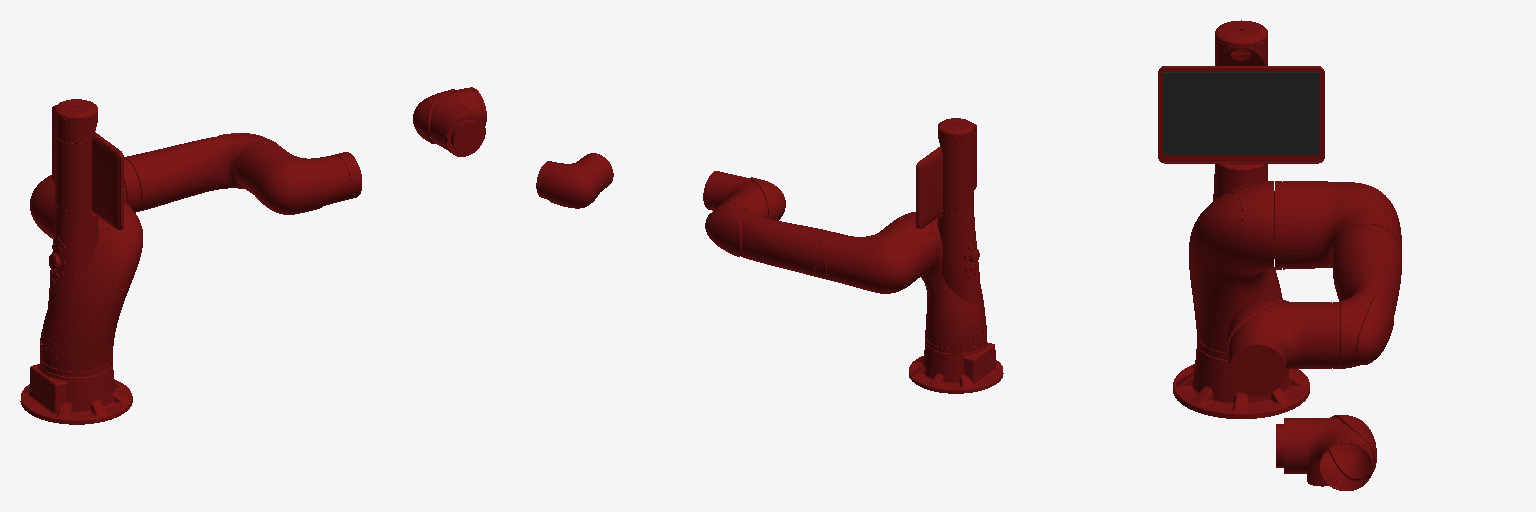
The robot description file, URDF, robot "sawyer":
<?xml version="1.0" ?>
<!-- =================================================================================== -->
<!-- |    This document was autogenerated by xacro from ./urdf.xacro                   | -->
<!-- |    EDITING THIS FILE BY HAND IS NOT RECOMMENDED                                 | -->
<!-- =================================================================================== -->
<robot name="sawyer" xmlns:xacro="http://www.ros.org/wiki/xacro">
  <material name="black">
    <color rgba="0 0 0 1"/>
  </material>

  <material name="black_trans">
    <color rgba="0 0 0 0.5"/>
  </material>
  <material name="darkgray">
    <color rgba=".2 .2 .2 1"/>
  </material>
  <material name="darkred">
    <color rgba=".5 .1 .1 1"/>
  </material>
  <material name="sawyer_red">
    <color rgba=".5 .1 .1 1"/>
  </material>
  <material name="sawyer_gray">
    <color rgba="0.75294 0.75294 0.75294 1"/>
  </material>
  <link name="base"/>
  <!-- <link name="torso">
    <visual>
      <origin rpy="0 0 0" xyz="0 0 0"/>
      <geometry>
        <box size="0 0 0"/>
      </geometry>
      <material name="darkgray">
        <color rgba=".2 .2 .2 1"/>
      </material>
    </visual>
    <inertial>
      <origin rpy="0 0 0" xyz="0.000000 0.000000 0.000000"/>
      <mass value="0.0001"/>
      <inertia ixx="1e-08" ixy="0" ixz="0" iyy="1e-08" iyz="0" izz="1e-08"/>
    </inertial>
  </link>
  <link name="pedestal">
    <visual>
      <origin rpy="1.57079632679 0 -1.57079632679" xyz="0.26 0.345 -0.91488"/>
      <geometry>
        <mesh filename="package://sawyer_description_openrave/meshes/sawyer_pv/pedestal.DAE"/>
      </geometry>
      <material name="darkgray"/>
    </visual>
    <collision>
      <origin rpy="0 0 0" xyz="0 0 -0.30"/>
      <geometry>
        <cylinder length="0.62" radius="0.18"/>
      </geometry>
    </collision>
    <inertial>
      <origin rpy="0 0 0" xyz="0 0 0"/>
      <mass value="60.86397744"/>
      <inertia ixx="5.0635929" ixy="0.00103417" ixz="0.80199628" iyy="6.08689388" iyz="0.00105311" izz="4.96191932"/>
    </inertial>
  </link>
  <link name="controller_box">
    <collision>
      <origin rpy="0 0 0" xyz="-0.325 0 -0.38"/>
      <geometry>
        <box size="0.22 0.4 0.53"/>
      </geometry>
    </collision>
  </link>
  <joint name="controller_box_fixed" type="fixed">
    <origin rpy="0 0 0" xyz="0.0 0.0 0.0"/>
    <parent link="base"/>
    <child link="controller_box"/>
  </joint>
  <link name="pedestal_feet">
    <collision>
      <origin rpy="0 0 0" xyz="-0.1225 0 -0.758"/>
      <geometry>
        <box size="0.77 0.7 0.31"/>
      </geometry>
    </collision>
  </link>
  <joint name="pedestal_feet_fixed" type="fixed">
    <origin rpy="0 0 0" xyz="0.0 0.0 0.0"/>
    <parent link="base"/>
    <child link="pedestal_feet"/>
  </joint>
  <joint name="torso_t0" type="fixed">
    <origin rpy="0 0 0" xyz="0 0 0"/>
    <parent link="base"/>
    <child link="torso"/>
  </joint>
  <joint name="pedestal_fixed" type="fixed">
    <origin rpy="0 0 0" xyz="0.0 0.0 0.0"/>
    <parent link="base"/>
    <child link="pedestal"/>
  </joint> -->
  <joint name="right_arm_mount" type="fixed">
    <origin rpy="0 0 0" xyz="0.0 0.0 0.0"/>
    <parent link="base"/>
    <child link="right_arm_base_link"/>
  </joint>
  <link name="right_arm_base_link">
    <inertial>
      <origin rpy="0 0 0" xyz="-0.0006241 -2.8025E-05 0.065404"/>
      <mass value="2.0687"/>
      <inertia ixx="0.0067599" ixy="-4.2024E-05" ixz="-6.1904E-07" iyy="0.0067877" iyz="1.5888E-05" izz="0.0074031"/>
    </inertial>
    <!-- <visual>
      <origin rpy="0 0 0" xyz="0 0 0.12"/>
      <geometry>
        <cylinder length="0.24" radius="0.11"/>
      </geometry>
      <material name="Cyan">
        <color rgba="0.0 1.0 1.0 0.5"/>
      </material>
    </visual> -->
    <visual>
      <origin rpy="0 0 0" xyz="0 0 0"/>
      <geometry>
        <mesh filename="package://sawyer_description_openrave/meshes/sawyer_pv/base.DAE"/>
      </geometry>
      <material name="sawyer_red"/>
    </visual>
    <collision>
      <origin rpy="0 0 0" xyz="0 0 0.12"/>
      <geometry>
        <cylinder length="0.24" radius="0.11"/>
      </geometry>
    </collision>
  </link>
  <link name="right_l0">
    <inertial>
      <origin rpy="0 0 0" xyz="0.024366 0.010969 0.14363"/>
      <mass value="5.3213"/>
      <inertia ixx="0.053314" ixy="0.0047093" ixz="0.011734" iyy="0.057902" iyz="0.0080179" izz="0.023659"/>
    </inertial>
    <visual>
      <origin rpy="0 0 0" xyz="0 0 0"/>
      <geometry>
        <mesh filename="package://sawyer_description_openrave/meshes/sawyer_mp3/l0.DAE"/>
      </geometry>
      <material name="sawyer_red"/>
    </visual>
    <collision>
      <origin rpy="0 0 0" xyz="0.081 0 0.237"/>
      <geometry>
        <sphere radius="0.07"/>
      </geometry>
    </collision>
  </link>
  <joint name="right_j0" type="revolute">
    <origin rpy="0 0 0" xyz="0 0 0.08"/>
    <parent link="right_arm_base_link"/>
    <child link="right_l0"/>
    <axis xyz="0 0 1"/>
    <limit effort="80.0" lower="-3.0503" upper="3.0503" velocity="1.74"/>
  </joint>
  <link name="head">
    <inertial>
      <origin rpy="0 0 0" xyz="0.0053207 -2.6549E-05 0.1021"/>
      <mass value="1.5795"/>
      <inertia ixx="0.011833" ixy="-4.4669E-06" ixz="4.9425E-05" iyy="0.0082709" iyz="4.2124E-07" izz="0.0049661"/>
    </inertial>
    <!-- <visual>
      <origin rpy="0 0 0" xyz="0 0 0.12"/>
      <geometry>
        <cylinder length="0.28" radius="0.065"/>
      </geometry>
      <material name="Cyan">
        <color rgba="0.0 1.0 1.0 0.5"/>
      </material>
    </visual> -->
    <visual>
      <origin rpy="0 0 0" xyz="0 0 0"/>
      <geometry>
        <mesh filename="package://sawyer_description_openrave/meshes/sawyer_pv/head.DAE"/>
      </geometry>
      <material name="sawyer_red"/>
    </visual>

    <!-- 
    <collision>
      <origin rpy="0 0 0" xyz="0 0 0.08"/>
      <geometry>
        <sphere radius="0.18"/>
      </geometry>
    </collision> -->
    <collision>
      <origin rpy="0 0 0" xyz="0 0 0.12"/>
      <geometry>
        <cylinder length="0.28" radius="0.065"/>
      </geometry>
    </collision>
  </link>
  <joint name="head_pan" type="revolute">
    <origin rpy="0 0 0" xyz="0 0 0.2965"/>
    <parent link="right_l0"/>
    <child link="head"/>
    <axis xyz="0 0 1"/>
    <limit effort="8" lower="-5.1477" upper="0.9559" velocity="1.8"/>
  </joint>
  <link name="right_torso_itb">
    <inertial>
      <origin rpy="0 0 0" xyz="0.000000 0.000000 0.000000"/>
      <mass value="0.0001"/>
      <inertia ixx="1e-08" ixy="0" ixz="0" iyy="1e-08" iyz="0" izz="1e-08"/>
    </inertial>
  </link>
  <joint name="right_torso_itb" type="fixed">
    <origin rpy="0 -1.5708 0" xyz="-.055 0 .22"/>
    <parent link="right_l0"/>
    <child link="right_torso_itb"/>
    <axis xyz="0 0 1"/>
  </joint>
  <link name="right_l1">
    <inertial>
      <origin rpy="0 0 0" xyz="-0.0030849 -0.026811 0.092521"/>
      <mass value="4.505"/>
      <inertia ixx="0.022398" ixy="-0.00023986" ixz="-0.00029362" iyy="0.014613" iyz="-0.0060875" izz="0.017295"/>
    </inertial>
    <visual>
      <origin rpy="0 0 0" xyz="0 0 0"/>
      <geometry>
        <mesh filename="package://sawyer_description_openrave/meshes/sawyer_mp3/l1.DAE"/>
      </geometry>
      <material name="sawyer_red"/>
    </visual>
    <collision>
      <origin rpy="0 0 0" xyz="0 0 0.1225"/>
      <geometry>
        <sphere radius="0.07"/>
      </geometry>
    </collision>
  </link>
  <joint name="right_j1" type="revolute">
    <origin rpy="-1.5708 1.5708 0" xyz="0.081 0.05 0.237"/>
    <parent link="right_l0"/>
    <child link="right_l1"/>
    <axis xyz="0 0 1"/>
    <limit effort="80.0" lower="-3.8183" upper="2.2824" velocity="1.328"/>
  </joint>
  <link name="right_l2">
    <inertial>
      <origin rpy="0 0 0" xyz="-0.00016232 -0.015346 0.13445"/>
      <mass value="1.7251"/>
      <inertia ixx="0.025176" ixy="4.3031E-06" ixz="1.4564E-05" iyy="0.024982" iyz="-0.0033928" izz="0.0033798"/>
    </inertial>
    <visual>
      <origin rpy="0 0 0" xyz="0 0 0"/>
      <geometry>
        <mesh filename="package://sawyer_description_openrave/meshes/sawyer_pv/l2.DAE"/>
      </geometry>
      <material name="sawyer_red"/>
    </visual>
    <collision>
      <origin rpy="0 0 0" xyz="0 0 0.08"/>
      <geometry>
        <cylinder length="0.34" radius="0.06"/>
      </geometry>
    </collision>
  </link>
  <joint name="right_j2" type="revolute">
    <origin rpy="1.5708 0 0" xyz="0 -0.14 0.1425"/>
    <parent link="right_l1"/>
    <child link="right_l2"/>
    <axis xyz="0 0 1"/>
    <limit effort="40.0" lower="-3.0514" upper="3.0514" velocity="1.957"/>
  </joint>
  <link name="right_l3">
    <inertial>
      <origin rpy="0 0 0" xyz="-0.0046678 -0.028394 -0.083127"/>
      <mass value="2.4743"/>
      <inertia ixx="0.0099549" ixy="-1.7675E-05" ixz="0.00027521" iyy="0.0064248" iyz="0.0030853" izz="0.0067746"/>
    </inertial>
    <!-- <visual>
      <origin rpy="0 0 0" xyz="0 -0.01 -0.12"/>
      <geometry>
        <sphere radius="0.06"/>
      </geometry>
      <material name="Cyan">
        <color rgba="0.0 1.0 1.0 0.5"/>
      </material>
    </visual> -->
    <visual>
      <origin rpy="0 0 0" xyz="0 0 0"/>
      <geometry>
        <mesh filename="package://sawyer_description_openrave/meshes/sawyer_pv/l3.DAE"/>
      </geometry>
      <material name="sawyer_red"/>
    </visual>
    <collision>
      <origin rpy="0 0 0" xyz="0 -0.01 -0.12"/>
      <geometry>
        <sphere radius="0.06"/>
      </geometry>
    </collision>
  </link>
  <joint name="right_j3" type="revolute">
    <origin rpy="-1.5708 0 0" xyz="0 -0.042 0.26"/>
    <parent link="right_l2"/>
    <child link="right_l3"/>
    <axis xyz="0 0 1"/>
    <limit effort="40.0" lower="-3.0514" upper="3.0514" velocity="1.957"/>
  </joint>
  <link name="right_l4">
    <inertial>
      <origin rpy="0 0 0" xyz="-0.0027794 0.0076558 0.13273"/>
      <mass value="1.0433"/>
      <inertia ixx="0.012913" ixy="2.573E-05" ixz="0.00017705" iyy="0.012939" iyz="0.0011152" izz="0.0012405"/>
    </inertial>
    <!-- <visual>
      <origin rpy="0 0 0" xyz="0 0 0.11"/>
      <geometry>
        <cylinder length="0.30" radius="0.045"/>
      </geometry>
      <material name="Cyan">
        <color rgba="0.0 1.0 1.0 0.5"/>
      </material>
    </visual> -->
    <visual>
      <origin rpy="0 0 0" xyz="0 0 0"/>
      <geometry>
        <mesh filename="package://sawyer_description_openrave/meshes/sawyer_pv/l4.DAE"/>
      </geometry>
      <material name="sawyer_red"/>
    </visual>
    <collision>
      <origin rpy="0 0 0" xyz="0 0 0.11"/>
      <geometry>
        <cylinder length="0.30" radius="0.045"/>
      </geometry>
    </collision>
  </link>
  <joint name="right_j4" type="revolute">
    <origin rpy="1.5708 0 0" xyz="0 -0.125 -0.1265"/>
    <parent link="right_l3"/>
    <child link="right_l4"/>
    <axis xyz="0 0 1"/>
    <limit effort="9.0" lower="-2.9842" upper="2.9842" velocity="3.485"/>
  </joint>
  <link name="right_arm_itb">
    <inertial>
      <origin rpy="0 0 0" xyz="0.000000 0.000000 0.000000"/>
      <mass value="0.0001"/>
      <inertia ixx="1e-08" ixy="0" ixz="0" iyy="1e-08" iyz="0" izz="1e-08"/>
    </inertial>
  </link>
  <joint name="right_arm_itb" type="fixed">
    <origin rpy="0 -1.5708 0" xyz="-.055 0 .075"/>
    <parent link="right_l4"/>
    <child link="right_arm_itb"/>
    <axis xyz="0 0 1"/>
  </joint>
  <link name="right_l5">
    <inertial>
      <origin rpy="0 0 0" xyz="0.0062067 -0.024291 0.075564"/>
      <mass value="1.5343"/>
      <inertia ixx="0.0046072" ixy="0.00012002" ixz="5.3065E-05" iyy="0.0028725" iyz="-0.0011886" izz="0.003101"/>
    </inertial>
    <visual>
      <origin rpy="0 0 0" xyz="0 0 0"/>
      <geometry>
        <mesh filename="package://sawyer_description_openrave/meshes/sawyer_pv/l5.DAE"/>
      </geometry>
      <material name="sawyer_red"/>
    </visual>
    <collision>
      <origin rpy="0 0 0" xyz="0 0 0.1"/>
      <geometry>
        <sphere radius="0.06"/>
      </geometry>
    </collision>
  </link>
  <joint name="right_j5" type="revolute">
    <origin rpy="-1.5708 0 0" xyz="0 0.031 0.275"/>
    <parent link="right_l4"/>
    <child link="right_l5"/>
    <axis xyz="0 0 1"/>
    <limit effort="9.0" lower="-2.9842" upper="2.9842" velocity="3.485"/>
  </joint>
  <link name="right_hand_camera"/>
  <joint name="right_hand_camera" type="fixed">
    <origin rpy="0 1.5708 0" xyz="0.039552 -0.033 0.0695"/>
    <parent link="right_l5"/>
    <child link="right_hand_camera"/>
    <axis xyz="0 0 0"/>
  </joint>
  <link name="right_wrist"/>
  <joint name="right_wrist" type="fixed">
    <origin rpy="1.5708 0 0" xyz="0 0 0.10541"/>
    <parent link="right_l5"/>
    <child link="right_wrist"/>
    <axis xyz="0 0 0"/>
  </joint>
  <link name="right_l6">
    <inertial>
      <origin rpy="0 0 0" xyz="-8.0726E-06 0.0085838 -0.0049566"/>
      <mass value="0.3292"/>
      <inertia ixx="0.00031105" ixy="1.4771E-06" ixz="-3.7074E-07" iyy="0.00021549" iyz="-8.4533E-06" izz="0.00035976"/>
    </inertial>
    <visual>
      <origin rpy="0 0 0" xyz="0 0 0"/>
      <geometry>
        <mesh filename="package://sawyer_description_openrave/meshes/sawyer_mp1/l6.DAE" scale="0 0 0"/>
      </geometry>
      <material name="sawyer_red"/>
    </visual>
    <collision>
      <origin rpy="0 0 0" xyz="0 0.015 -0.01"/>
      <geometry>
        <cylinder length="0.05" radius="0.055"/>
      </geometry>
    </collision>
  </link>
  <joint name="right_j6" type="revolute">
    <origin rpy="-1.5708 -0.17453 3.1416" xyz="0 -0.11 0.1053"/>
    <parent link="right_l5"/>
    <child link="right_l6"/>
    <axis xyz="0 0 1"/>
    <limit effort="9.0" lower="-4.7104" upper="4.7104" velocity="4.545"/>
  </joint>
  <link name="right_hand">
    <collision>
      <origin rpy="0 0 0" xyz="0 0 0.02"/>
      <geometry>
        <cylinder length="0.0" radius="0.035"/>
      </geometry>
    </collision>
    <inertial>
      <origin rpy="0 0 0" xyz="1.0E-08 1.0E-08 1.0E-08"/>
      <mass value="1.0E-08"/>
      <inertia ixx="1.0E-08" ixy="1.0E-08" ixz="1.0E-08" iyy="1.0E-08" iyz="1.0E-08" izz="1.0E-08"/>
    </inertial>
  </link>
  <joint name="right_hand" type="fixed">
    <origin rpy="0 0 1.5708" xyz="0 0 0.0245"/>
    <axis xyz="0 0 1"/>
    <parent link="right_l6"/>
    <child link="right_hand"/>
  </joint>
  <link name="right_l1_2">
    <inertial>
      <origin rpy="0 0 0" xyz="1.0E-08 1.0E-08 1.0E-08"/>
      <mass value="1.0E-08"/>
      <inertia ixx="1.0E-08" ixy="1.0E-08" ixz="1.0E-08" iyy="1.0E-08" iyz="1.0E-08" izz="1.0E-08"/>
    </inertial>
    <collision>
      <origin rpy="0 0 0" xyz="0 0 0.035"/>
      <geometry>
        <cylinder length="0.14" radius="0.07"/>
      </geometry>
    </collision>
  </link>
  <joint name="right_j1_2" type="fixed">
    <origin rpy="0 0 0" xyz="0 0 0"/>
    <parent link="right_l1"/>
    <child link="right_l1_2"/>
    <axis xyz="0 0 1"/>
  </joint>
  <link name="right_l2_2">
    <inertial>
      <origin rpy="0 0 0" xyz="1.0E-08 1.0E-08 1.0E-08"/>
      <mass value="1.0E-08"/>
      <inertia ixx="1.0E-08" ixy="1.0E-08" ixz="1.0E-08" iyy="1.0E-08" iyz="1.0E-08" izz="1.0E-08"/>
    </inertial>
    <collision>
      <origin rpy="0 0 0" xyz="0 0 0.26"/>
      <geometry>
        <sphere radius="0.06"/>
      </geometry>
    </collision>
  </link>
  <joint name="right_j2_2" type="fixed">
    <origin rpy="0 0 0" xyz="0 0 0"/>
    <parent link="right_l2"/>
    <child link="right_l2_2"/>
    <axis xyz="0 0 1"/>
  </joint>
  <link name="right_l4_2">
    <inertial>
      <origin rpy="0 0 0" xyz="1.0E-08 1.0E-08 1.0E-08"/>
      <mass value="1.0E-08"/>
      <inertia ixx="1.0E-08" ixy="1.0E-08" ixz="1.0E-08" iyy="1.0E-08" iyz="1.0E-08" izz="1.0E-08"/>
    </inertial>
    <collision>
      <origin rpy="0 0 0" xyz="0 0.01 0.26"/>
      <geometry>
        <sphere radius="0.06"/>
      </geometry>
    </collision>
  </link>
  <joint name="right_j4_2" type="fixed">
    <origin rpy="0 0 0" xyz="0 0 0"/>
    <parent link="right_l4"/>
    <child link="right_l4_2"/>
    <axis xyz="0 0 1"/>
  </joint>  
  <link name="screen">
   <!--  <visual>
      <origin rpy="0 0 0" xyz="0 -0.005 -0.005"/>
      <geometry>
        <box size="0.32 0.22 0.1"/>
      </geometry>
      <material name="Cyan">
        <color rgba="0.0 1.0 1.0 0.5"/>
      </material>
    </visual> -->
    <visual>
      <origin rpy="0 0 0" xyz="0 0 0"/>
      <geometry>
        <box size="0.24 0.14 0.002"/>
      </geometry>
      <material name="darkgray"/>
    </visual>
    <collision>
      <origin rpy="0 0 0" xyz="0 -0.005 -0.005"/>
      <geometry>
        <box size="0.32 0.22 0.1"/>
      </geometry>
    </collision>
    <!-- <collision>
      <origin rpy="0 0 0" xyz="0 0 0"/>
      <geometry>
        <sphere radius="0.001"/>
      </geometry>
    </collision> -->
    <inertial>
      <origin rpy="0 0 0" xyz="0 0 0"/>
      <mass value="0.0001"/>
      <inertia ixx="1e-08" ixy="0" ixz="0" iyy="1e-08" iyz="0" izz="1e-08"/>
    </inertial>
  </link>
  <joint name="display_joint" type="fixed">
    <origin rpy="1.5708 0 1.5708" xyz="0.03 0.0 0.105"/>
    <parent link="head"/>
    <child link="screen"/>
  </joint>
  <link name="head_camera"/>
  <joint name="head_camera" type="fixed">
    <origin rpy="-2.1293 0 -1.5708" xyz="0.0228027 0 0.216572"/>
    <parent link="head"/>
    <child link="head_camera"/>
    <axis xyz="0 0 0"/>
  </joint>
</robot>

--- What the picture shows (computed from the rendered views, not written in the file) ---
3 views of the same robot in one strip: view 1: azimuth 30°, elevation 25°; view 2: azimuth 150°, elevation 25°; view 3: azimuth 270°, elevation 25° (orthographic).
Robot: sawyer — 20 links, 19 joints (8 revolute, 11 fixed); root link base; default pose: every joint at zero.
Links seen in each view (by area): view 1: right_l0, head, right_l3, right_l2, right_arm_base_link, right_l5, right_l1; view 2: right_l0, right_l1, head, right_l2, right_arm_base_link, right_l5, right_l3; view 3: screen, right_l0, right_l3, right_l1, right_l2, right_l5, head, right_arm_base_link.
Boxes of the visible links, left/top/right/bottom form: right_l0: left=40, top=202, right=142, bottom=376; head: left=52, top=99, right=123, bottom=229; right_l3: left=235, top=139, right=361, bottom=214; right_l2: left=124, top=133, right=266, bottom=212; right_arm_base_link: left=20, top=363, right=132, bottom=424; right_l5: left=413, top=87, right=486, bottom=156; right_l1: left=30, top=159, right=140, bottom=239; right_l0: left=899, top=212, right=986, bottom=353; right_l1: left=814, top=216, right=938, bottom=293; head: left=916, top=118, right=976, bottom=228; right_l2: left=705, top=202, right=830, bottom=277; right_arm_base_link: left=909, top=342, right=1003, bottom=393; right_l5: left=536, top=153, right=613, bottom=208; right_l3: left=703, top=171, right=785, bottom=220; screen: left=1163, top=72, right=1319, bottom=154; right_l0: left=1189, top=164, right=1282, bottom=359; right_l3: left=1226, top=300, right=1339, bottom=396; right_l1: left=1274, top=181, right=1401, bottom=269; right_l2: left=1332, top=233, right=1401, bottom=368; right_l5: left=1276, top=415, right=1376, bottom=490; head: left=1158, top=20, right=1324, bottom=168; right_arm_base_link: left=1173, top=345, right=1309, bottom=418.
Size in the robot's own frame: 1.1 by 0.3738 by 0.61 metres.
Meshes: 9 distinct files referenced, 8 mesh visuals loaded (8 Collada DAE); not drawn: 1 (reference not matched to a file when rendering).